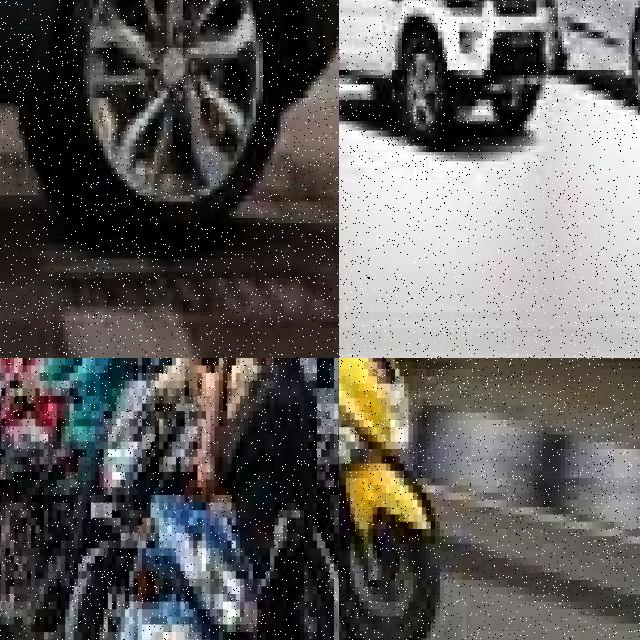bike: (339, 358, 440, 640), (94, 487, 244, 640), (0, 358, 73, 640), (69, 365, 141, 640)
car: (0, 0, 333, 257), (339, 0, 545, 256), (530, 0, 640, 149)
